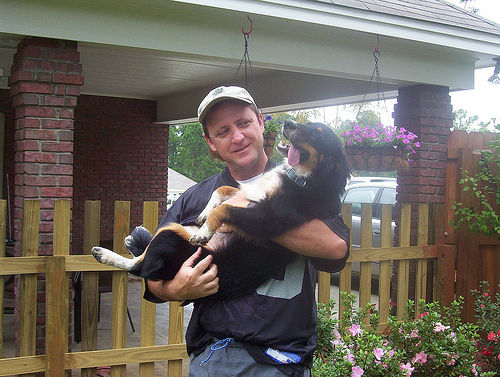without_mask: (204, 104, 268, 171)
